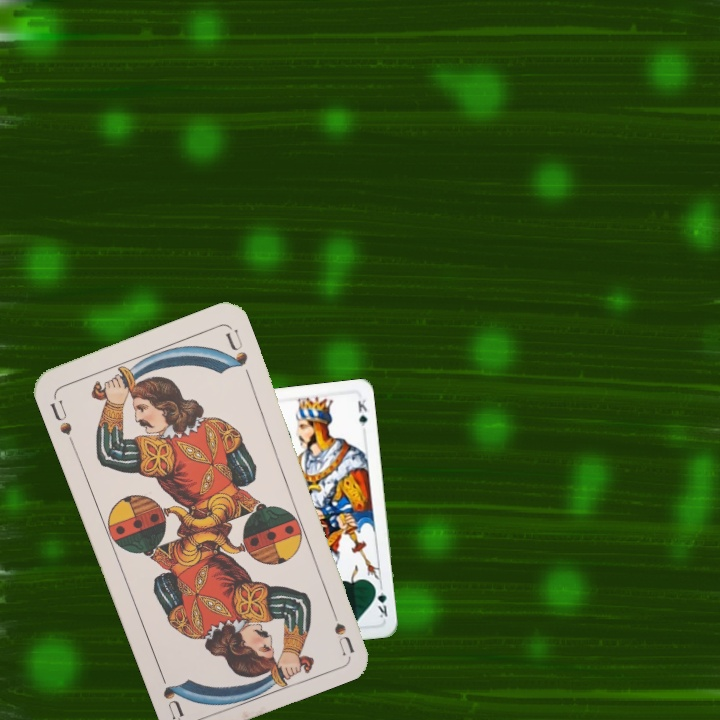GK: (371, 581, 390, 620)
SU: (324, 597, 356, 655), (46, 396, 77, 449)
